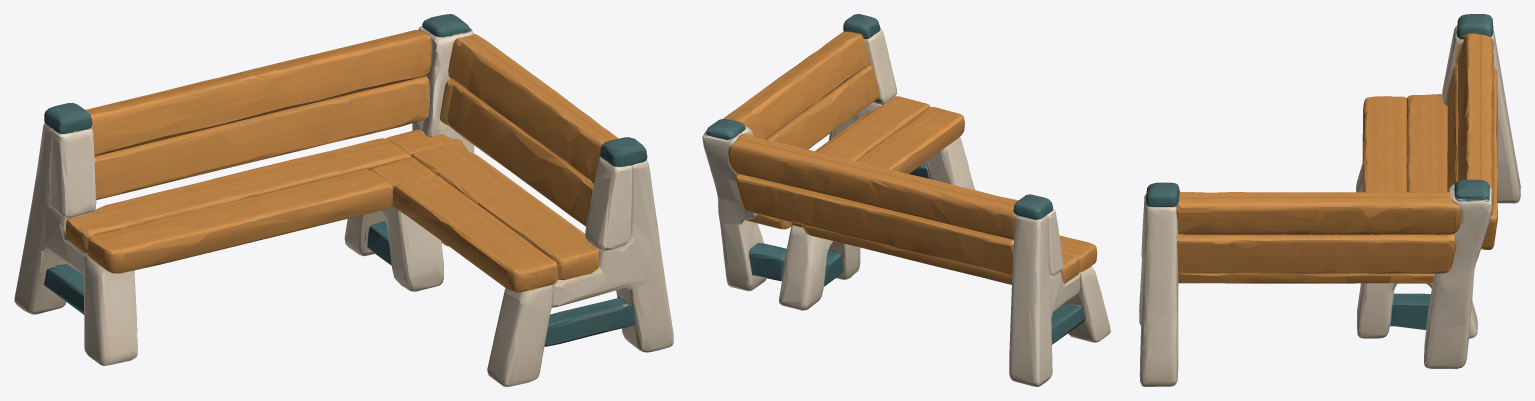
File: parkBench.glb
3 views of the same model, side by side, from view 1: azimuth 30°, elevation 25°; view 2: azimuth 150°, elevation 25°; view 3: azimuth 270°, elevation 25° (orthographic). The views are drawn at different scales.
Visible parts, largest first — view 1: Mesh_0; view 2: Mesh_0; view 3: Mesh_0.
Boxes of the visible parts, x1=… form: Mesh_0: x1=14, y1=14, x2=673, y2=386; Mesh_0: x1=702, y1=14, x2=1110, y2=386; Mesh_0: x1=1139, y1=14, x2=1520, y2=386.
Bounding box in the file's own units: 0.9894 × 0.4299 × 0.8.
Materials: 1 (1 with a texture image).
